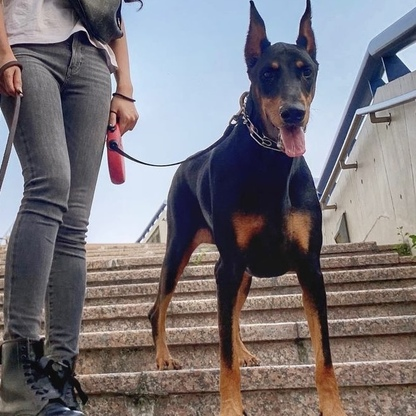doberman: (144, 6, 348, 416)
